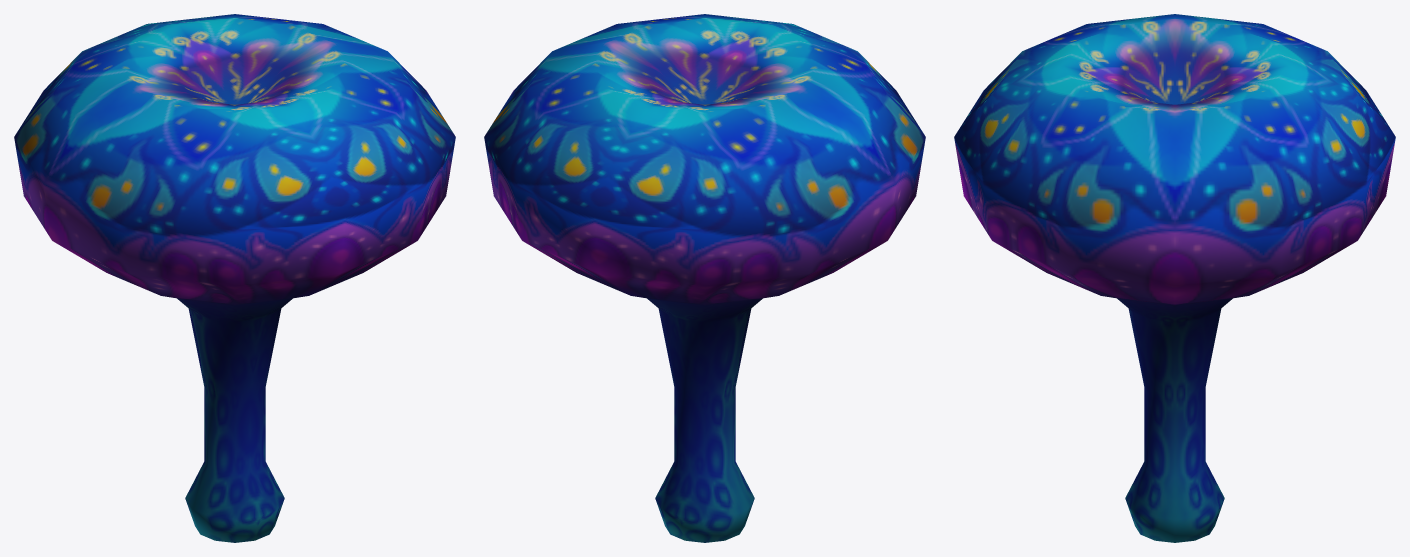
The model's file is Mushroom_06c.FBX.
The picture shows the model from 3 angles, left to right: view 1: azimuth 30°, elevation 25°; view 2: azimuth 150°, elevation 25°; view 3: azimuth 270°, elevation 25°; orthographic projection.
Visible parts, largest first — view 1: Mushroom_06c; view 2: Mushroom_06c; view 3: Mushroom_06c.
Boxes of the visible parts, left/top/right/bottom form: Mushroom_06c: left=14, top=14, right=455, bottom=542; Mushroom_06c: left=484, top=14, right=925, bottom=542; Mushroom_06c: left=954, top=14, right=1395, bottom=542.
Bounding box in the file's own units: 144 × 170 × 144.
